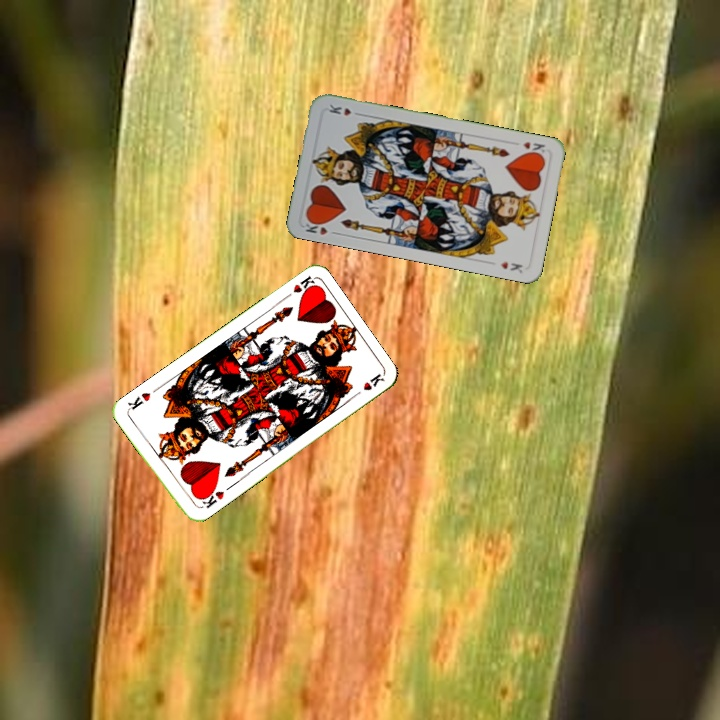HK: (279, 272, 318, 302), (300, 215, 341, 238), (195, 484, 227, 511), (519, 137, 547, 158)
